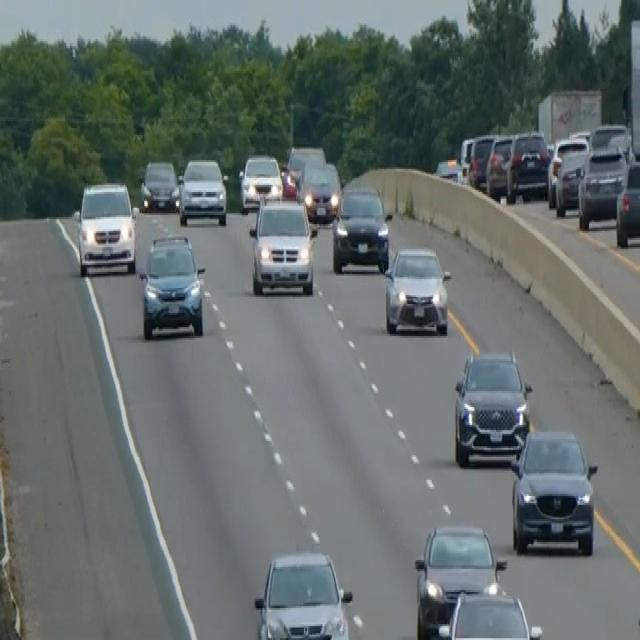car: (509, 425, 598, 556), (413, 521, 506, 638), (452, 347, 532, 468), (252, 548, 353, 638), (138, 231, 206, 340), (383, 244, 452, 336), (435, 580, 543, 638), (331, 183, 391, 274), (577, 143, 627, 230), (177, 154, 228, 226), (506, 130, 550, 201), (546, 135, 587, 206), (238, 151, 282, 212), (301, 160, 341, 224), (139, 156, 179, 212), (615, 155, 639, 247), (284, 142, 325, 192), (484, 132, 514, 199), (466, 132, 495, 186), (457, 134, 474, 182)
lorry: (622, 16, 639, 164)
minivan: (247, 192, 317, 297), (73, 178, 138, 277)
